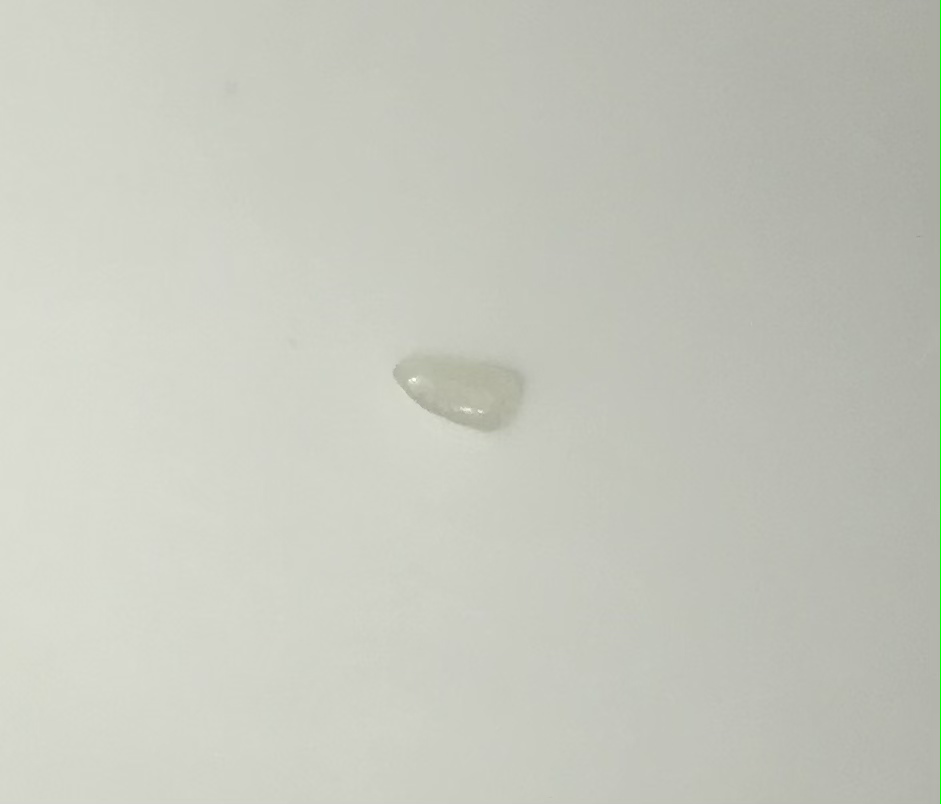Gao Tam: (393, 341, 547, 461)
